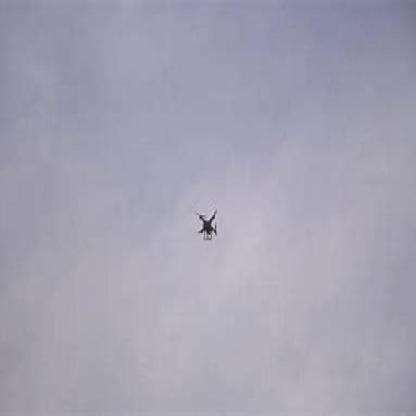drone: (192, 207, 225, 246)
